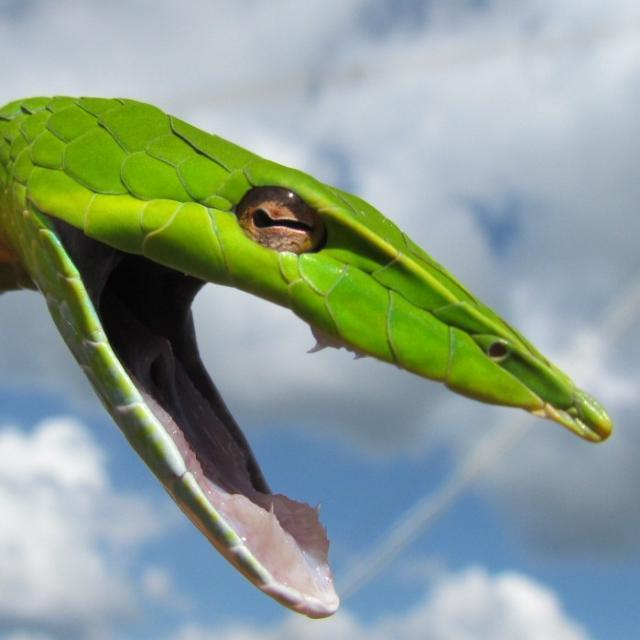Snake: (0, 91, 613, 619)
